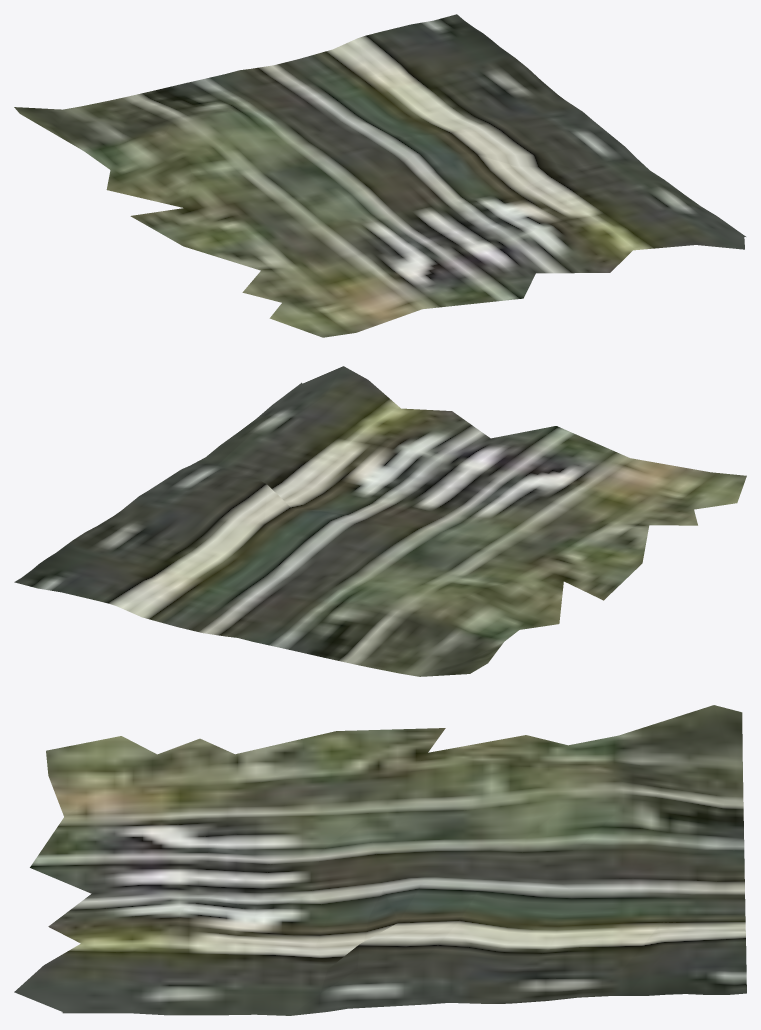
Rendered from Tile_001_003_L14_444.glb.
3 views of the same model, one above another, from view 1: azimuth 30°, elevation 25°; view 2: azimuth 150°, elevation 25°; view 3: azimuth 270°, elevation 25° (orthographic). The views are drawn at different scales.
Visible parts, largest first — view 1: rtc; view 2: rtc; view 3: rtc.
Boxes of the visible parts, x1,y1,x2,y2 form: rtc: (14, 14, 745, 337); rtc: (14, 366, 746, 676); rtc: (14, 705, 746, 1015).
Bounding box in the file's own units: 20.13 × 1.6 × 23.34.
Materials: 1 (1 with a texture image).
